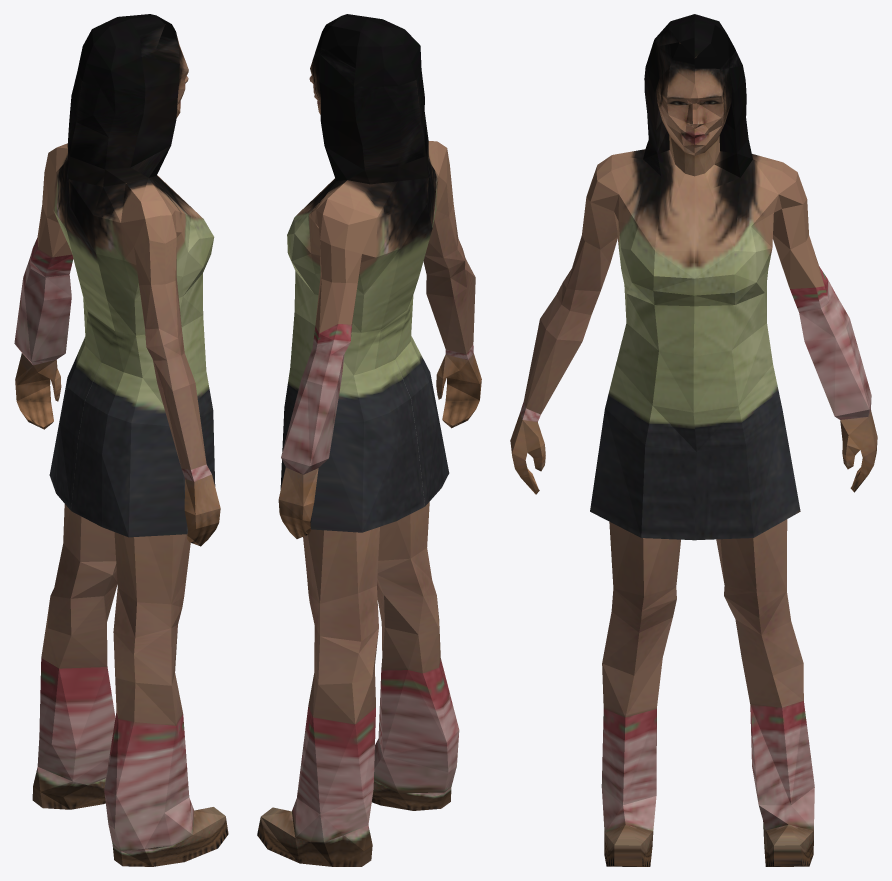
File: ofyst.obj
3 views of the same model, side by side, from view 1: azimuth 30°, elevation 25°; view 2: azimuth 150°, elevation 25°; view 3: azimuth 270°, elevation 25° (orthographic). The views are drawn at different scales.
Visible parts, largest first — view 1: _Pelvis; view 2: _Pelvis; view 3: _Pelvis.
Boxes of the visible parts, bbox=[...] form: _Pelvis: bbox=[14, 14, 228, 866]; _Pelvis: bbox=[257, 14, 481, 866]; _Pelvis: bbox=[510, 14, 877, 866].
Bounding box in the file's own units: 0.2838 × 1.7 × 0.6856.
Materials: 1 (1 with a texture image).
